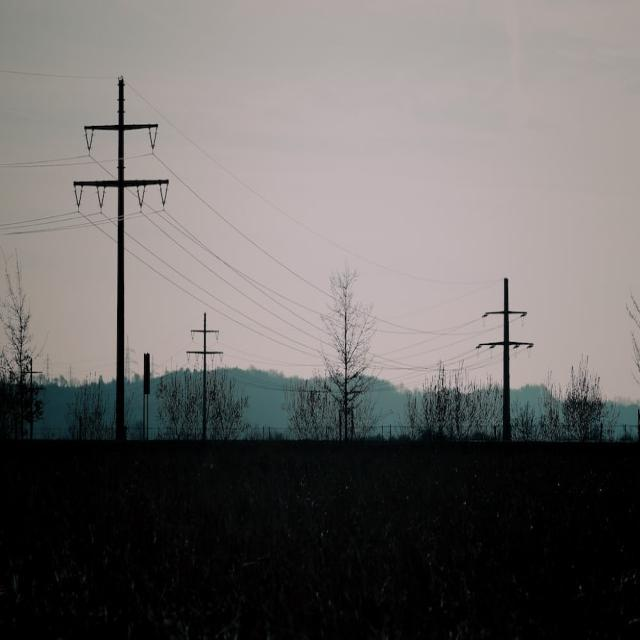transmission tower: (44, 51, 194, 456), (462, 248, 542, 442)
